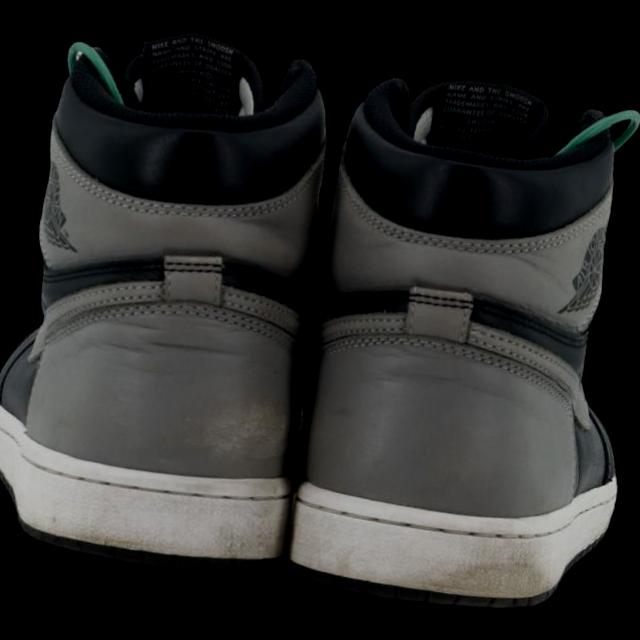nike_original_jordan: (277, 57, 640, 634), (0, 7, 353, 589)
